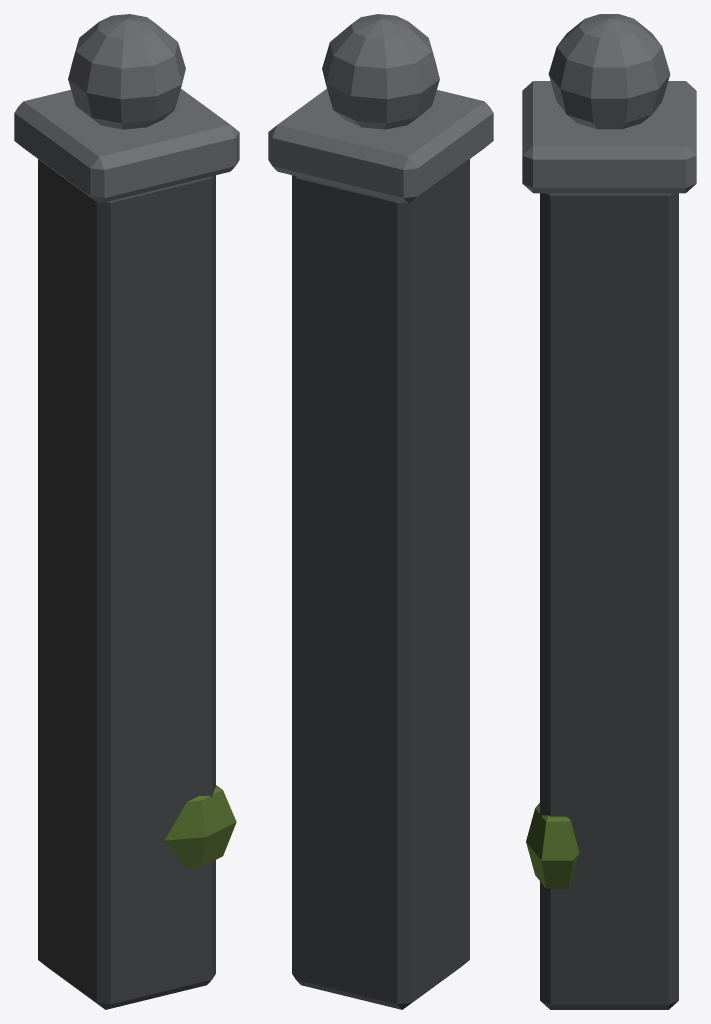
The model's file is gate_post.glb.
3 views of the same model, side by side, from view 1: azimuth 30°, elevation 25°; view 2: azimuth 150°, elevation 25°; view 3: azimuth 270°, elevation 25° (orthographic).
Parts seen in each view (by area): view 1: GatePost; view 2: GatePost; view 3: GatePost.
Part boxes in pixels (box(x1,y1,x2,y2)): GatePost: box(14, 14, 239, 1009); GatePost: box(268, 14, 493, 1009); GatePost: box(522, 14, 696, 1009).
Size of the model in its own units: 0.202 by 1.22 by 0.2.
